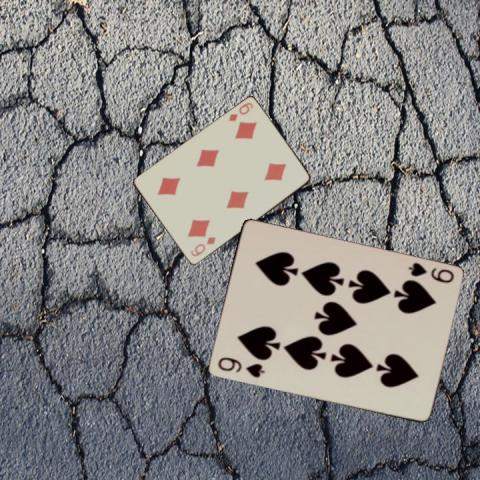6d: (188, 234, 218, 258), (225, 100, 255, 123)
9s: (214, 354, 266, 379), (405, 259, 455, 285)
